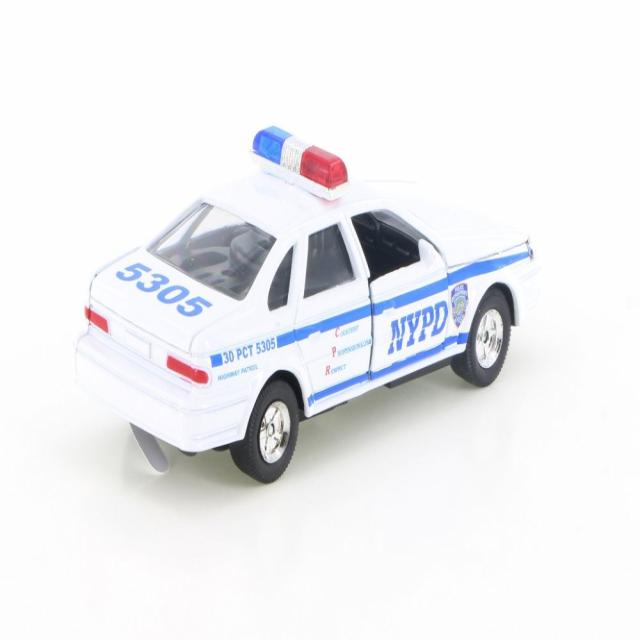Car: (76, 126, 539, 482)
